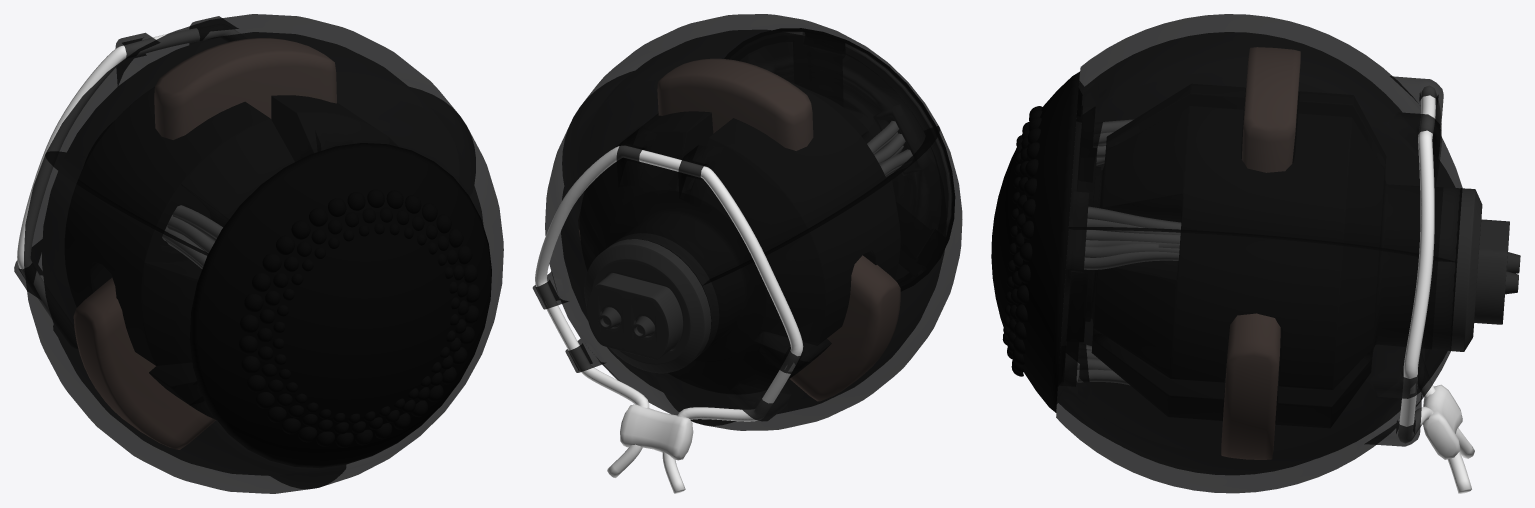
Rendered from swishy_eye_blown.dae.
3 views of the same model, side by side, from view 1: azimuth 30°, elevation 25°; view 2: azimuth 150°, elevation 25°; view 3: azimuth 270°, elevation 25° (orthographic). The views are drawn at different scales.
Visible parts, largest first — view 1: Lens_Low_Poly_0; view 2: Lens_Low_Poly_0; view 3: Lens_Low_Poly_0.
Part boxes in pixels (<box>): Lens_Low_Poly_0: <box>14,14,503,493</box>; Lens_Low_Poly_0: <box>532,14,962,493</box>; Lens_Low_Poly_0: <box>991,14,1520,493</box>.
Bounding box in the file's own units: 0.1115 × 0.1227 × 0.1118.
9 materials, 1 textured.
